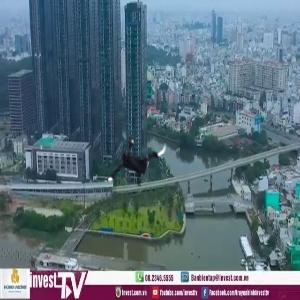drone: (95, 123, 173, 201)
